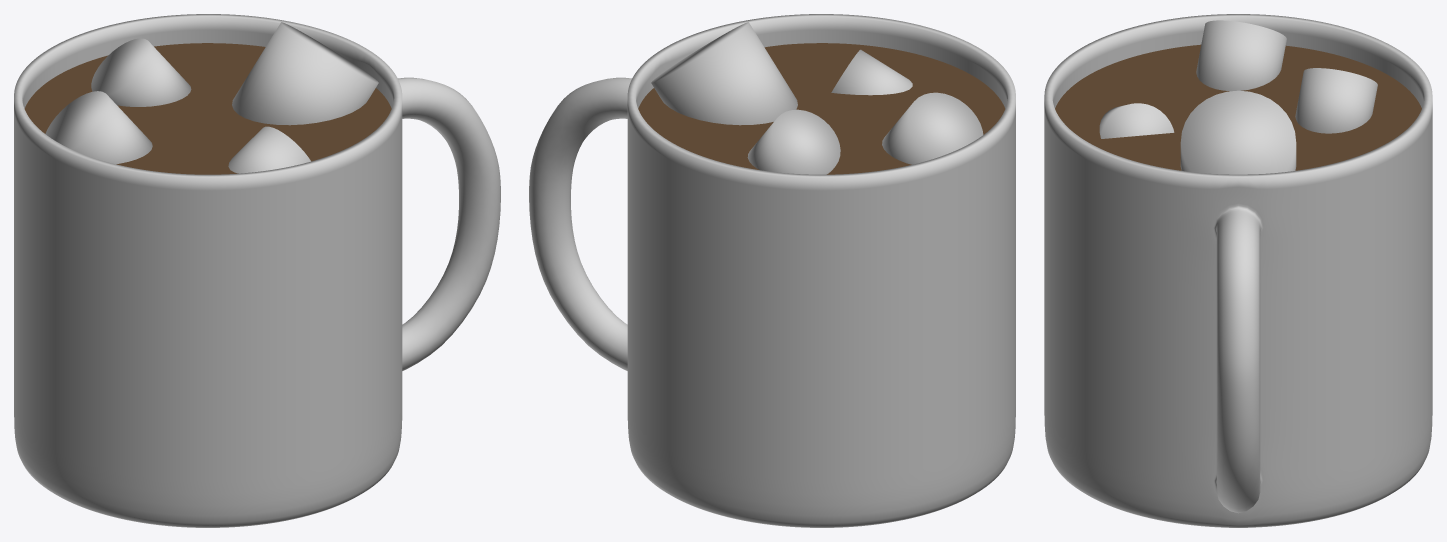
Rendered from Taza de café.fbx.
The picture shows the model from 3 angles, left to right: view 1: azimuth 30°, elevation 25°; view 2: azimuth 150°, elevation 25°; view 3: azimuth 270°, elevation 25°; orthographic projection.
Visible parts, largest first — view 1: Taza, Plane, Cylinder.001, Cylinder.002, Cylinder.003, Cylinder.004; view 2: Taza, Plane, Cylinder.001, Cylinder.002, Cylinder.003, Cylinder.004; view 3: Taza, Plane, Cylinder.001, Cylinder.002, Cylinder.003, Cylinder.004.
Boxes of the visible parts, x1,y1,x2,y2 form: Taza: (14,14,500,527); Plane: (24,43,391,174); Cylinder.001: (232,22,378,125); Cylinder.002: (45,91,152,164); Cylinder.003: (91,38,191,106); Cylinder.004: (228,126,310,173); Taza: (529,14,1015,527); Plane: (638,43,1005,174); Cylinder.001: (651,22,797,125); Cylinder.002: (882,92,983,164); Cylinder.003: (747,109,840,174); Cylinder.004: (831,49,912,95); Taza: (1044,14,1432,527); Plane: (1055,44,1421,170); Cylinder.001: (1180,90,1296,174); Cylinder.002: (1196,20,1286,91); Cylinder.003: (1295,68,1377,133); Cylinder.004: (1099,103,1174,138).
Size of the model in its own units: 271 by 225 by 199.
